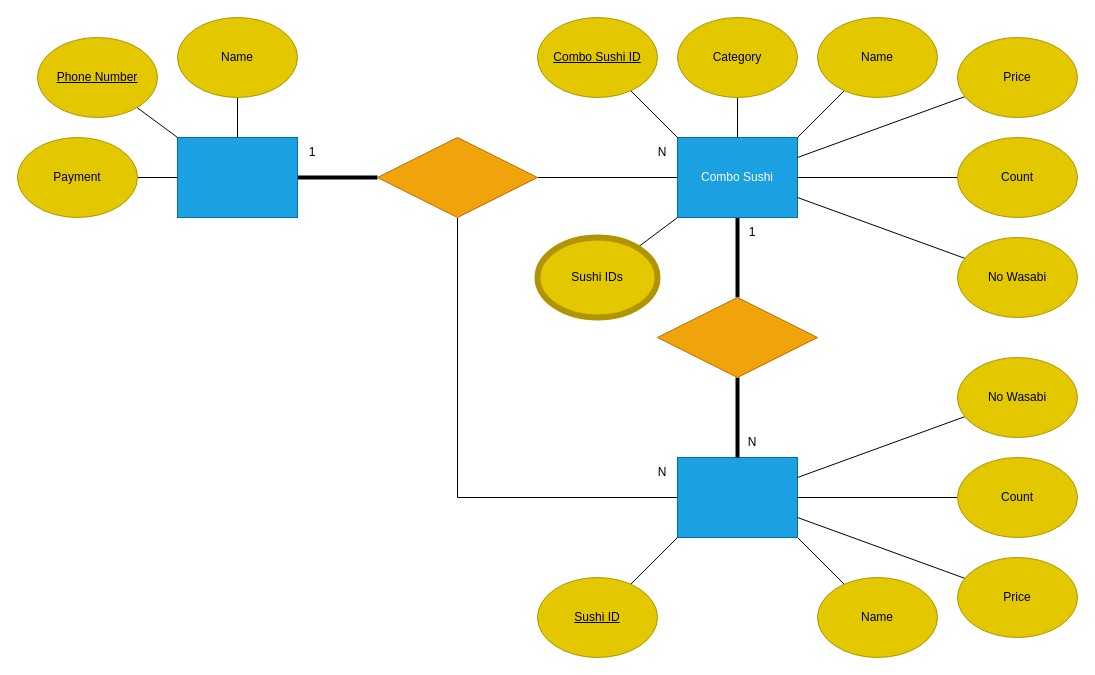
Image size: 1095x675. Some labels were removed from this diagram. Each missing label, with the box of its shape:
Contains: (656, 296, 818, 378)
Orderer: (176, 136, 298, 218)
Orders: (376, 136, 538, 218)
Sushi: (676, 456, 798, 538)
